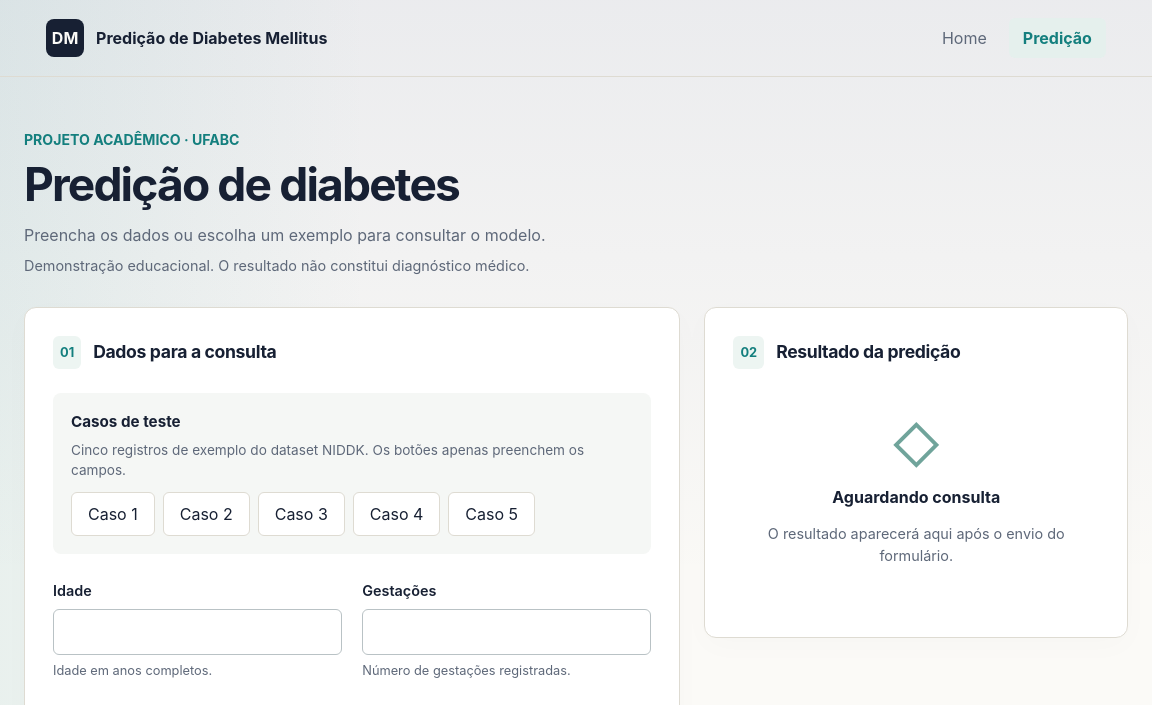
Formulário de predição › clears fields and result
Step 1. Click the button "Caso 2" → point(206, 514), box [163,492,250,536]
(page scrolled)
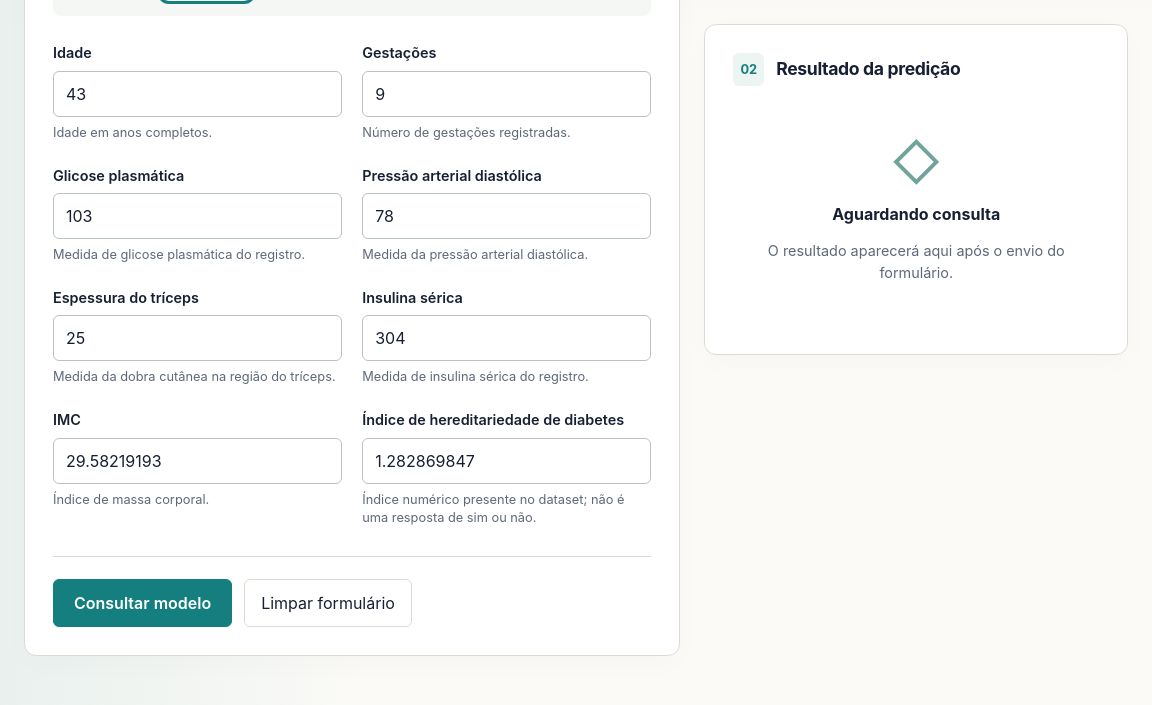
Step 2. Click the button "Consultar modelo" → point(143, 603), box [53,579,232,627]
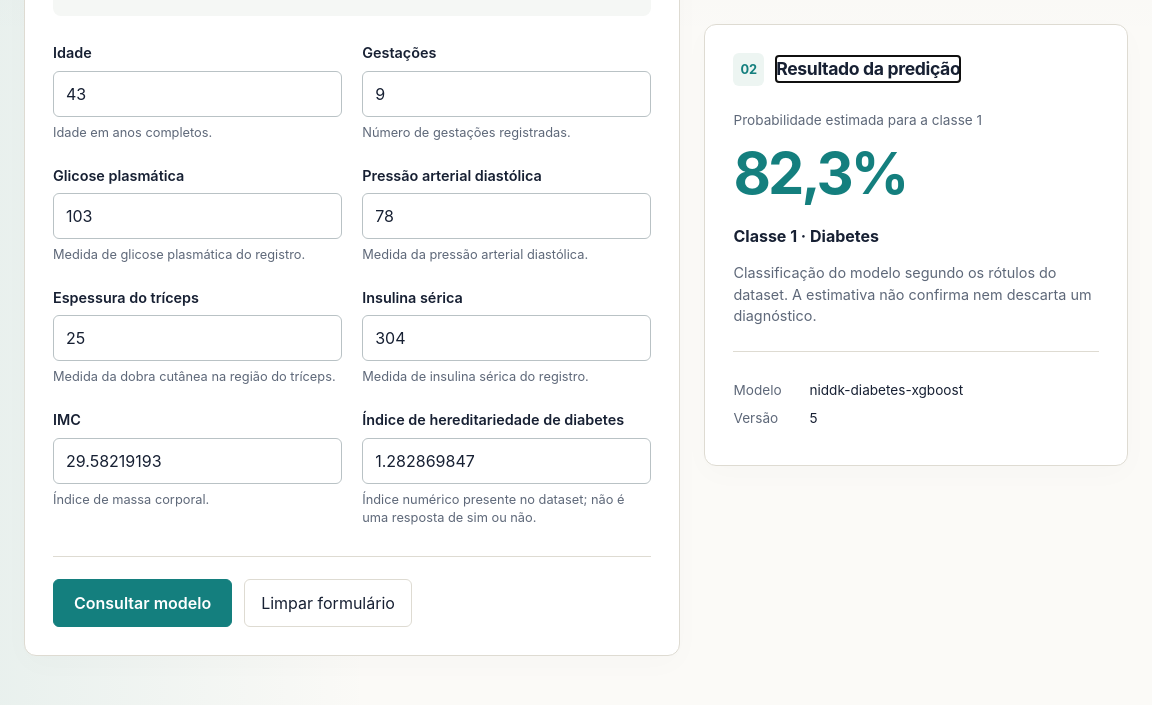
Expected: the text "82,3%" is shown, [734,139,906,209]
Step 3. Click the button "Limpar formulário" → point(328, 603), box [244,579,412,627]
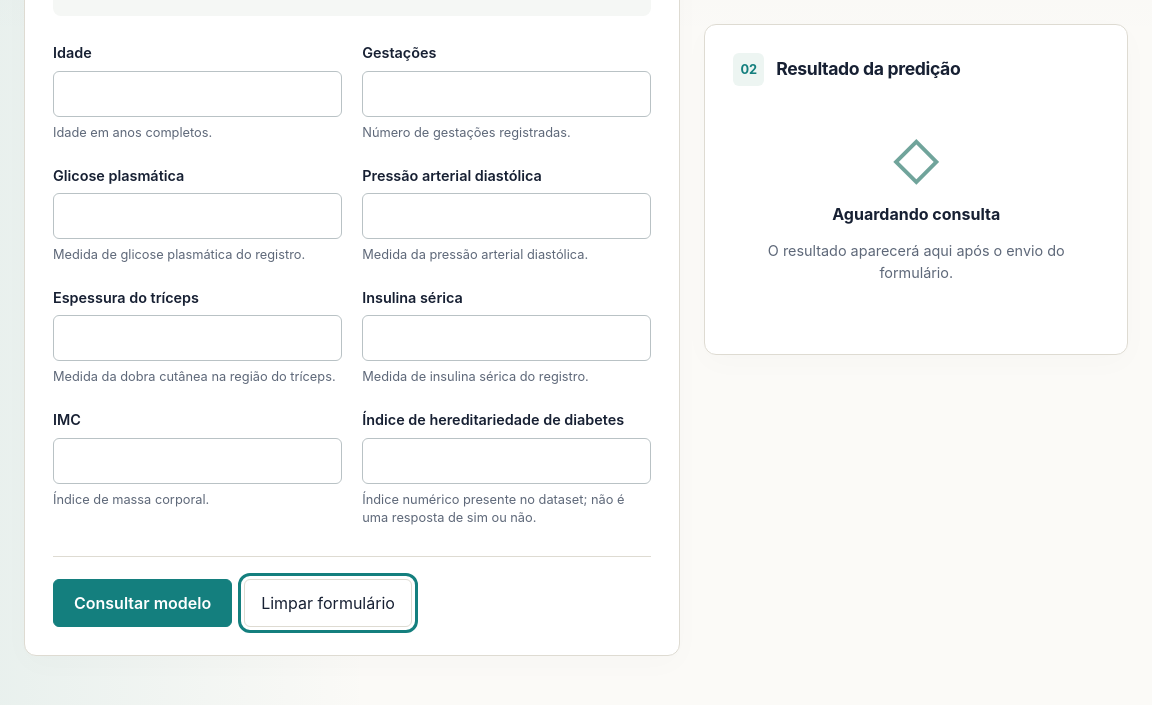
Expected: the text "82,3%" is gone
Expected: the heading "Aguardando consulta" is shown, [832,204,1000,224]
Expected: the number field labelled "Idade" is not empty, [53,71,342,117]
